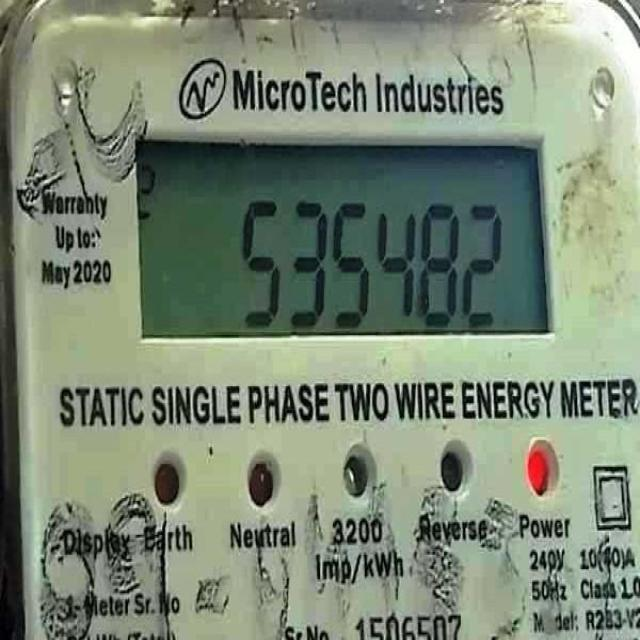2: (464, 202, 505, 327)
3: (291, 198, 329, 329)
4: (378, 206, 419, 321)
5: (239, 193, 287, 322), (332, 198, 374, 330)
8: (419, 200, 463, 332)
Digital meter: (135, 140, 553, 338)
